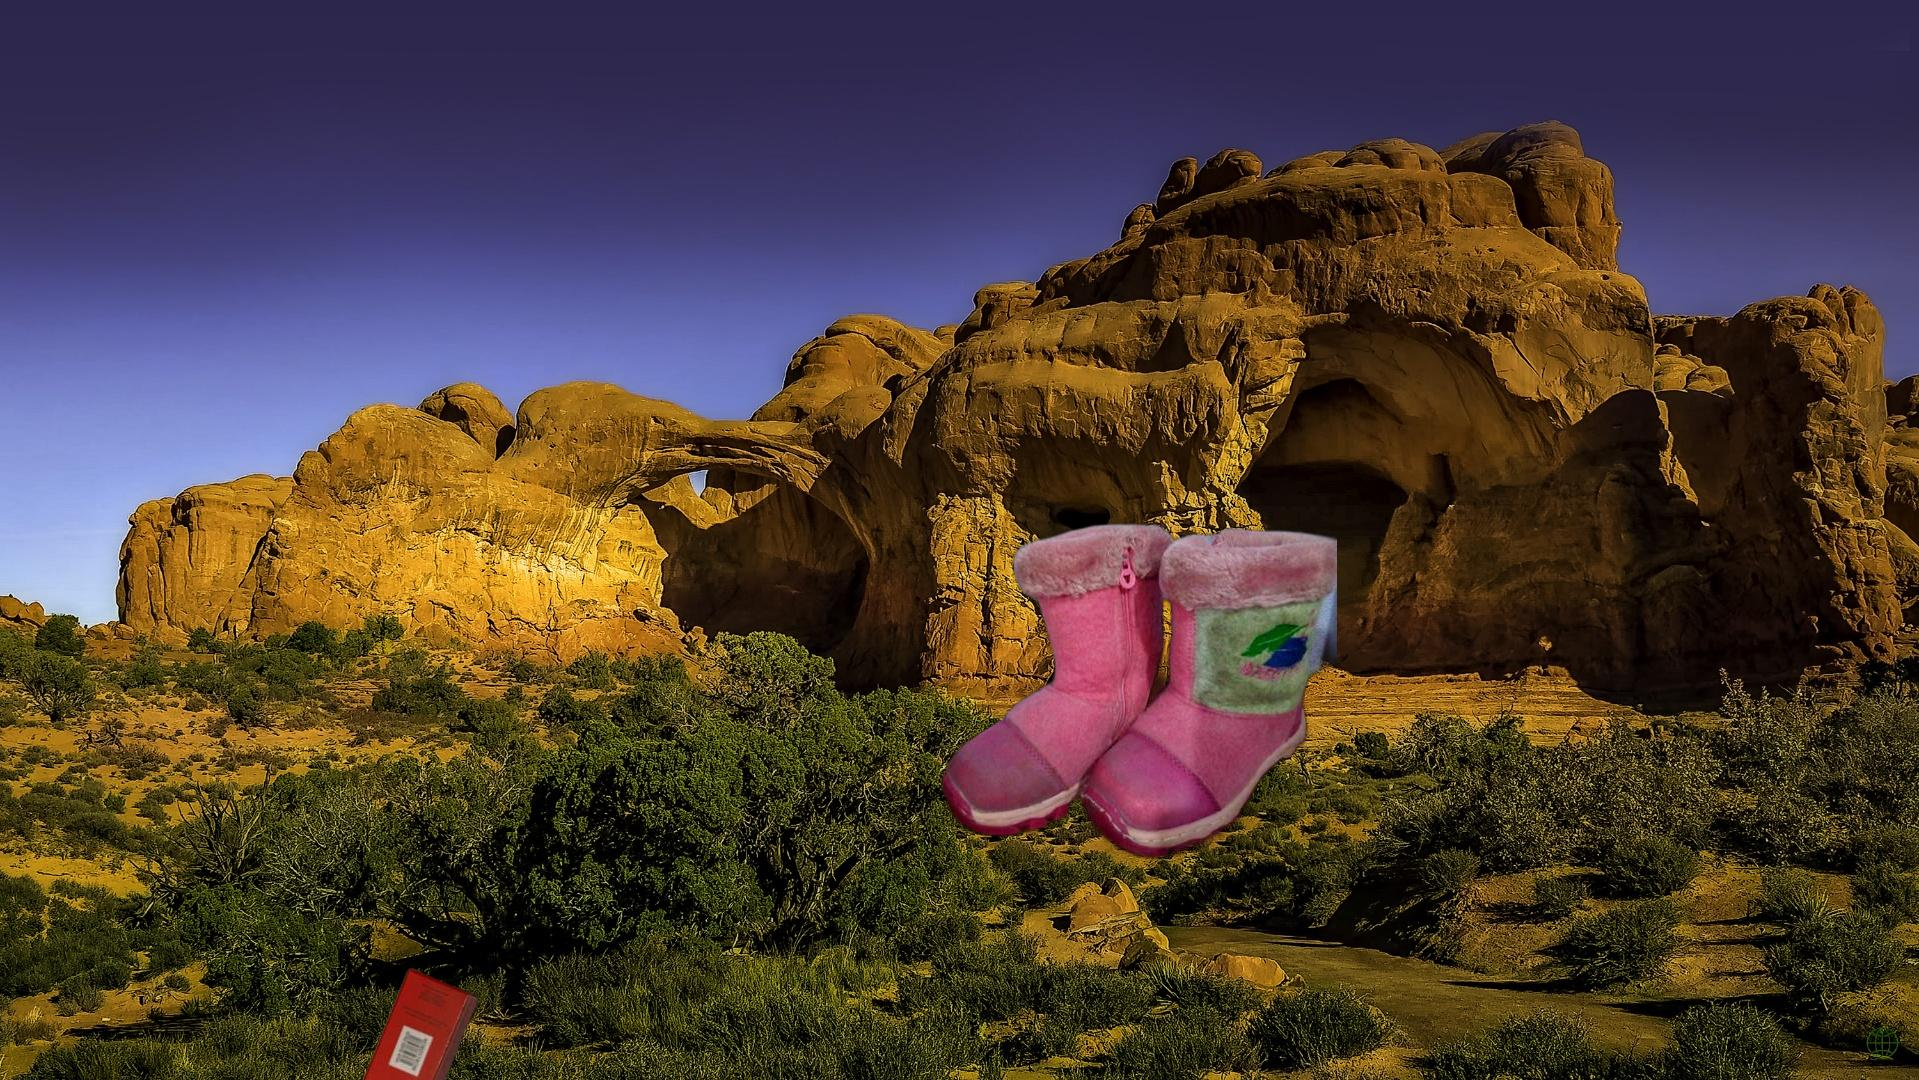paper: (313, 964, 483, 1080)
shoes: (937, 518, 1337, 863)
